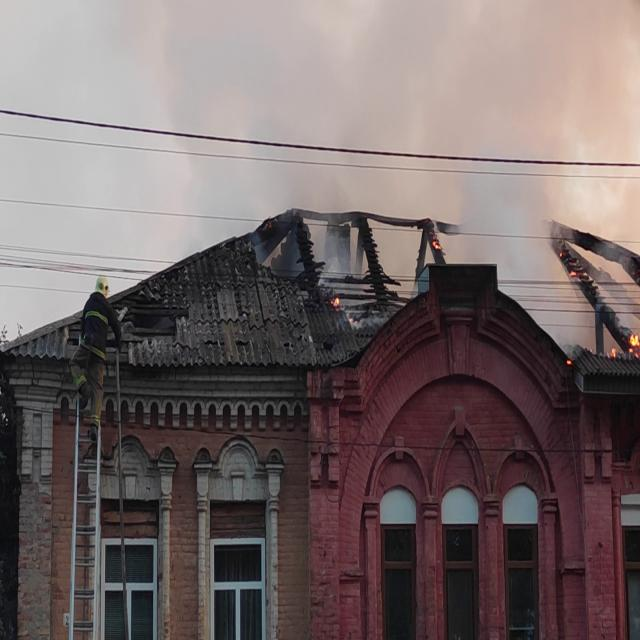fire: (621, 315, 640, 356)
smoke: (200, 68, 302, 186), (463, 157, 529, 260)
